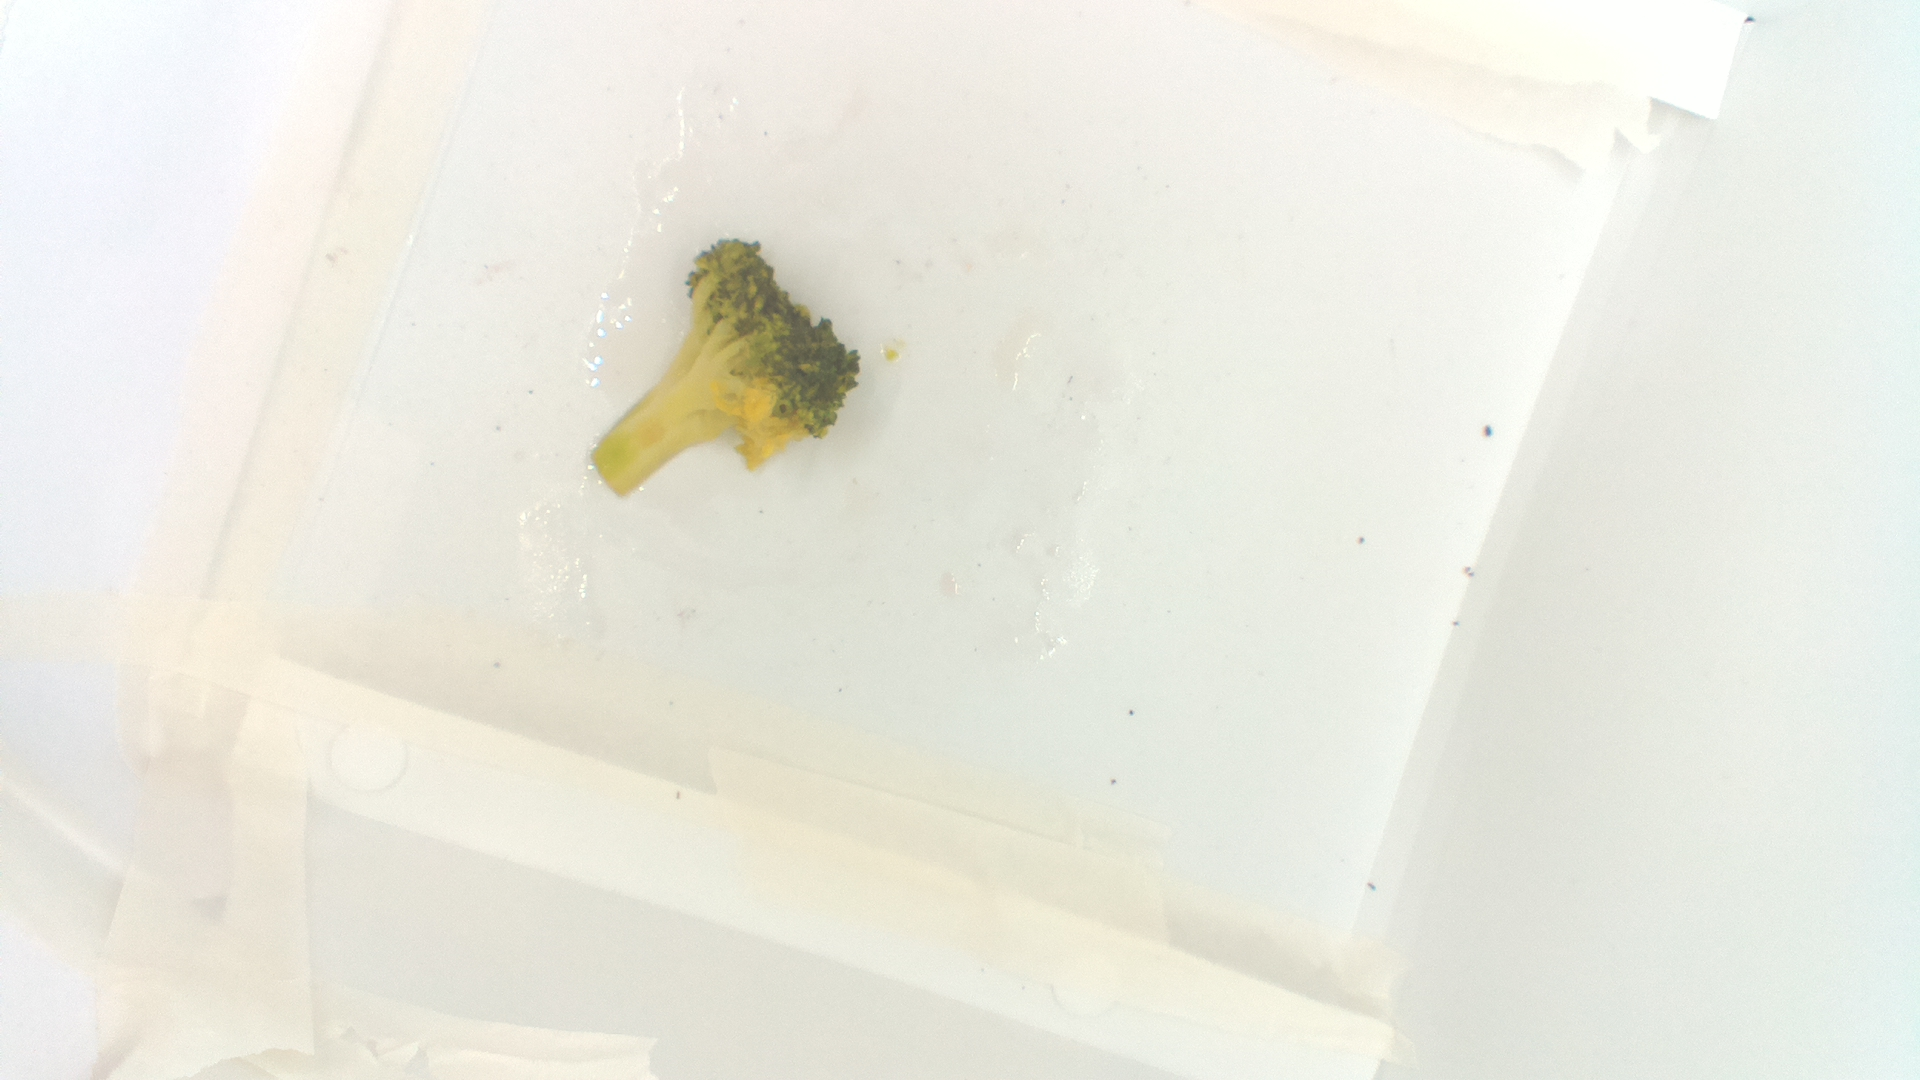vegetable: (589, 237, 862, 504)
